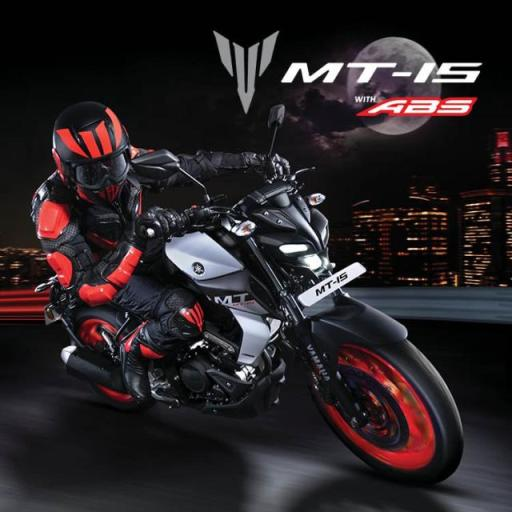number plate: (289, 262, 388, 304)
